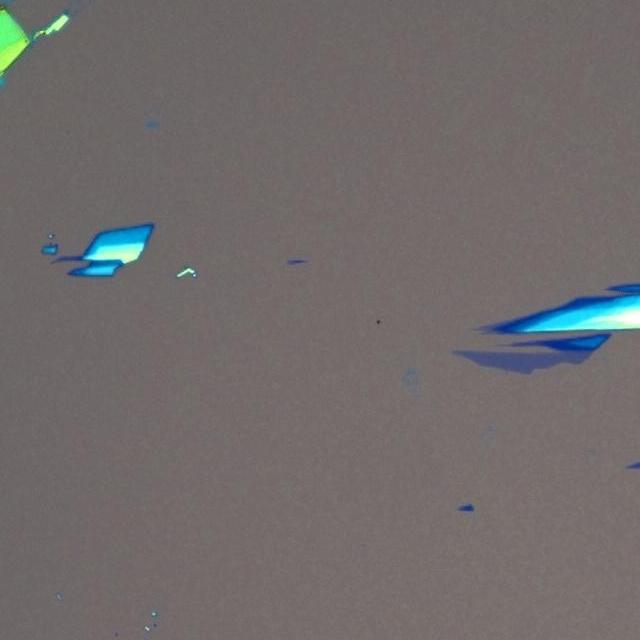monolayer-eWW4: (450, 348, 594, 376)
